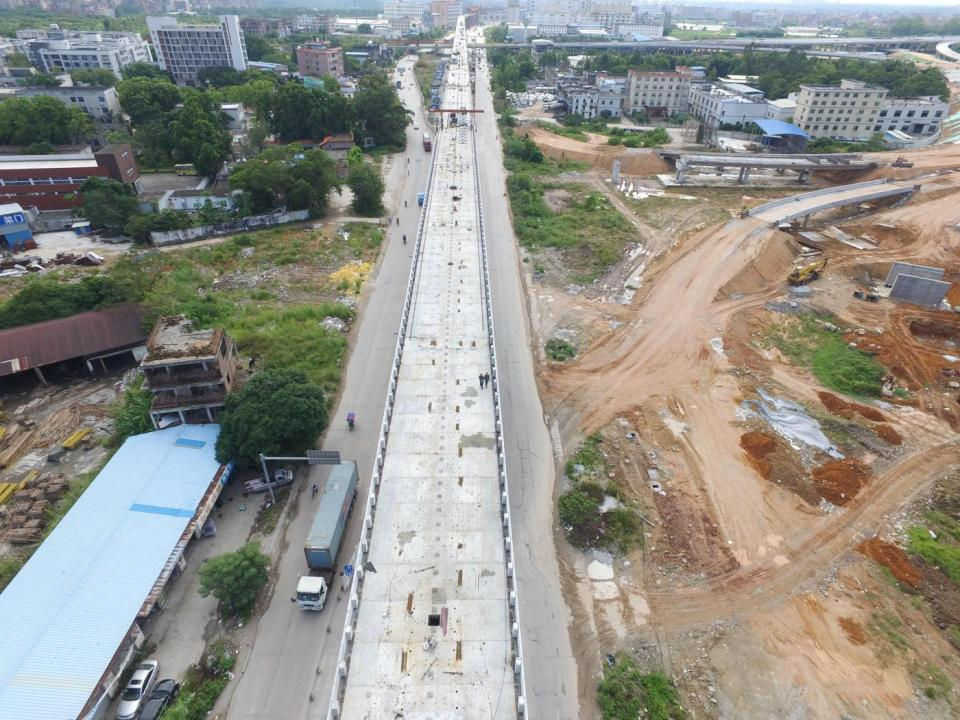bus: (174, 163, 204, 177)
car: (115, 658, 159, 718), (141, 678, 178, 720), (517, 104, 527, 108), (414, 123, 419, 129), (528, 102, 532, 106)
truck: (292, 460, 361, 611), (242, 467, 294, 494), (423, 132, 431, 152), (418, 192, 426, 207), (396, 80, 401, 88)
